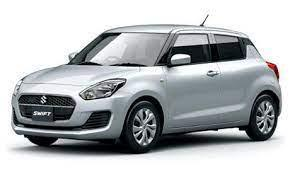Hatchback: (11, 23, 283, 153)
